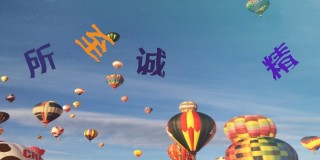所: (20, 43, 58, 79)
精: (262, 41, 299, 81)
至: (73, 22, 114, 63)
诚: (136, 43, 167, 80)
